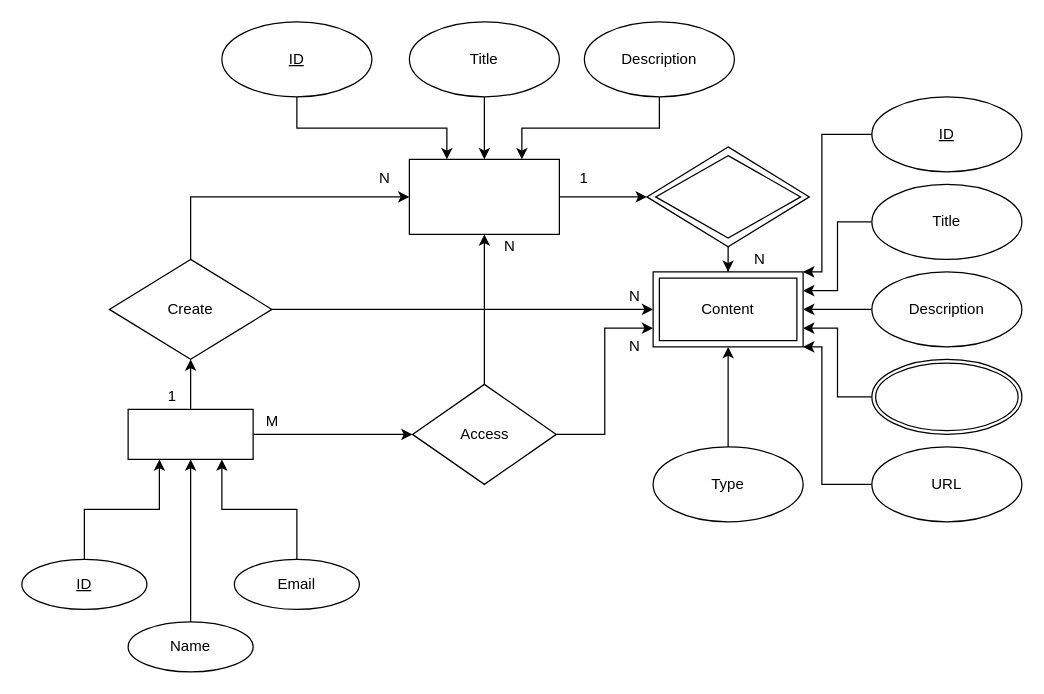
Some shapes in this 1044 by 694 pixel diagram are drawn without their labels. Here are the shapes that lost their labels. From the top down, the centre of each, then its label:
At (x=483, y=196): "Project".
At (x=727, y=196): "Contains".
At (x=946, y=396): "#Metatags".
At (x=190, y=433): "Users".
